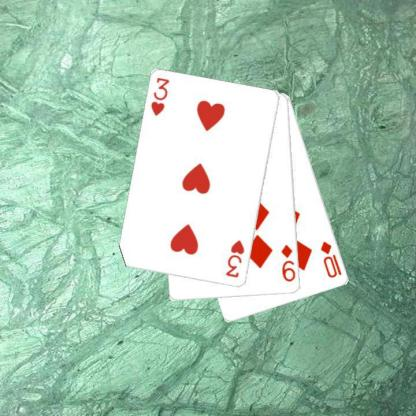10D: (318, 238, 343, 280)
3H: (149, 75, 171, 118), (223, 238, 246, 279)
9D: (278, 242, 296, 283)
